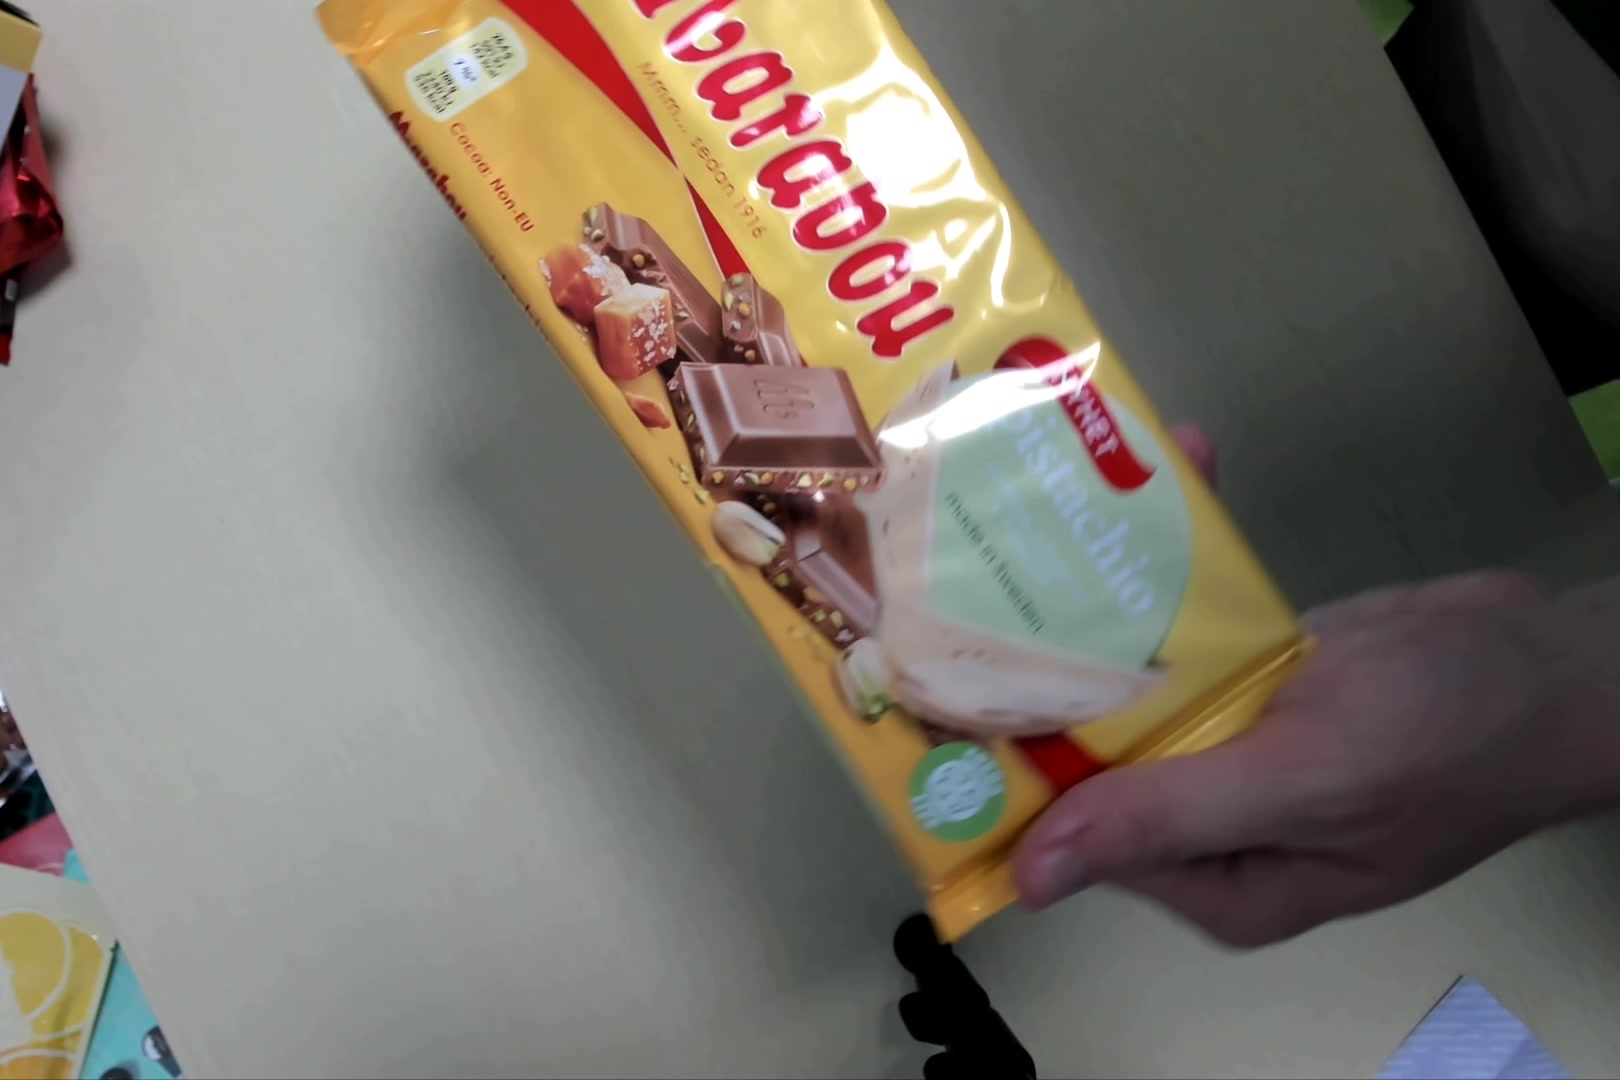SweetsChocolatesOthers_100-199g_NonHalal_NonHealthy: (337, 4, 1303, 944)
